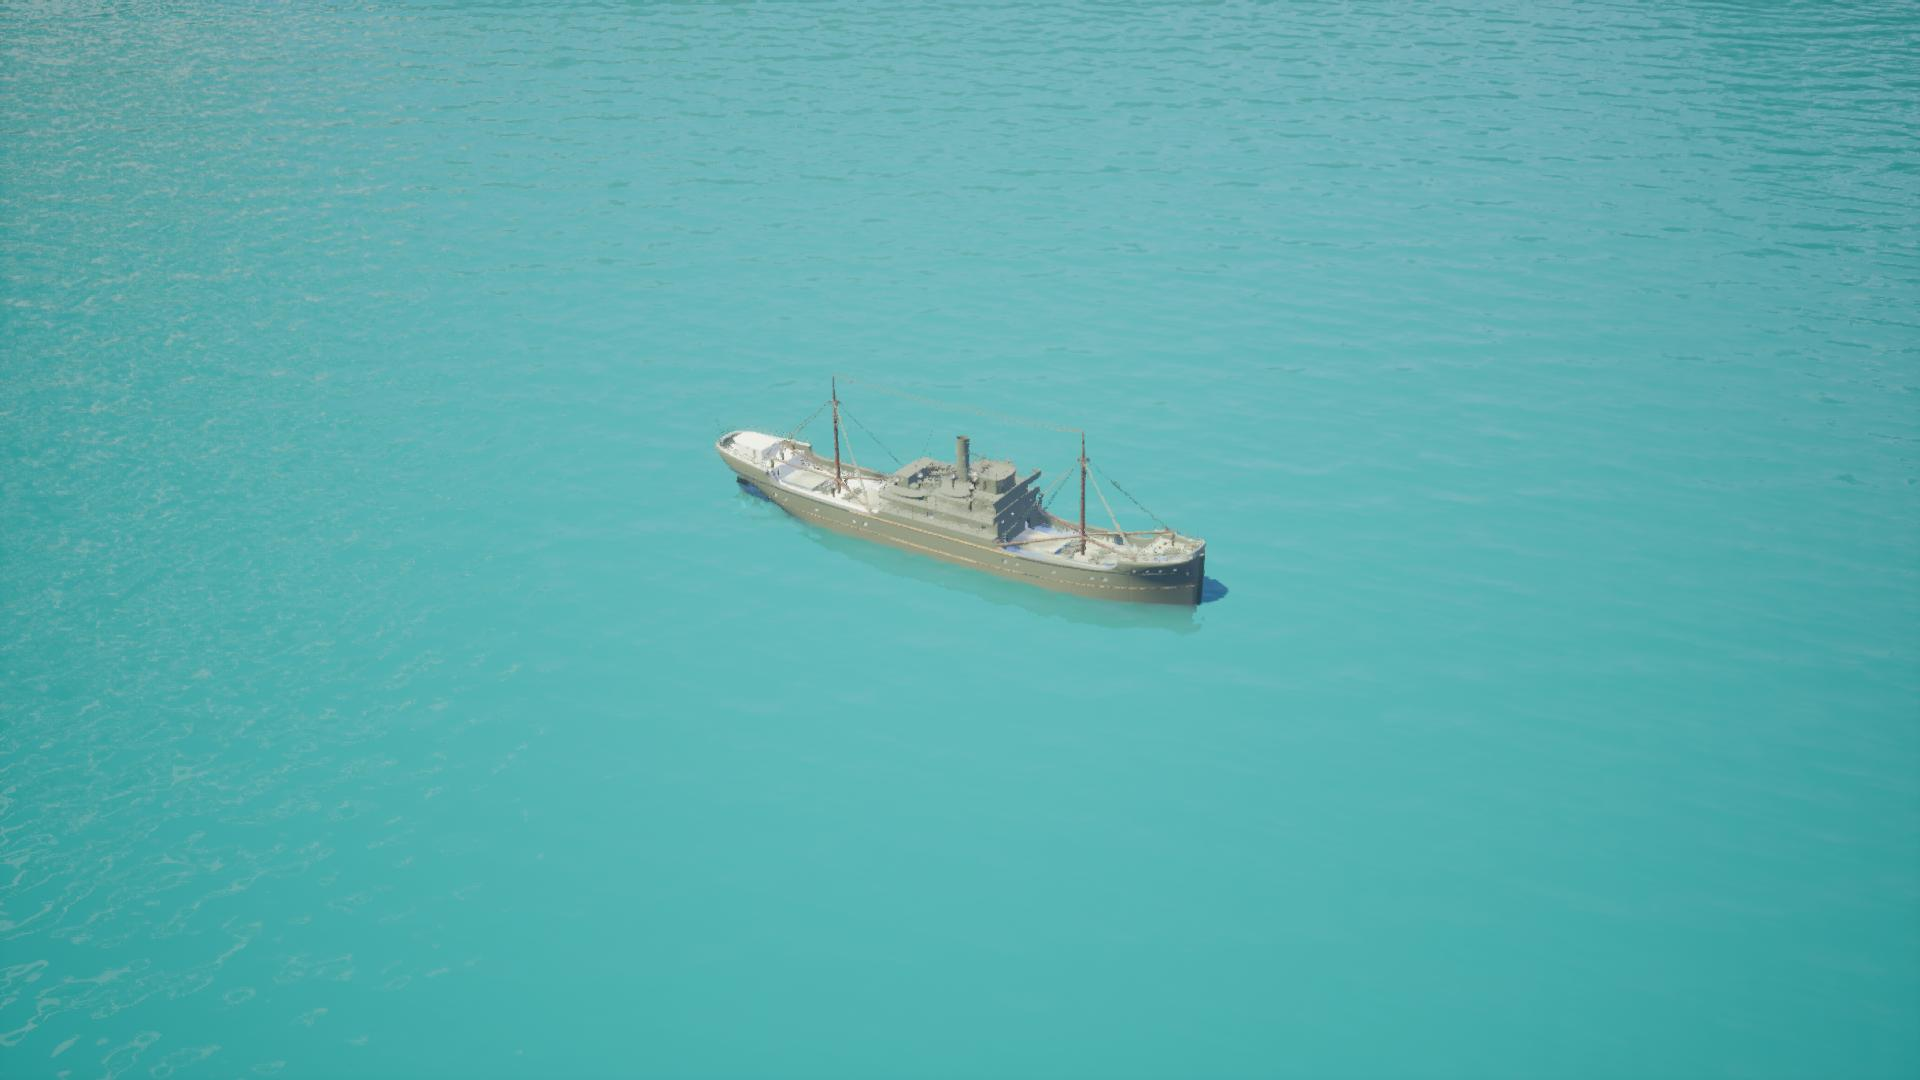Fishing Boat: (716, 380, 1215, 622)
